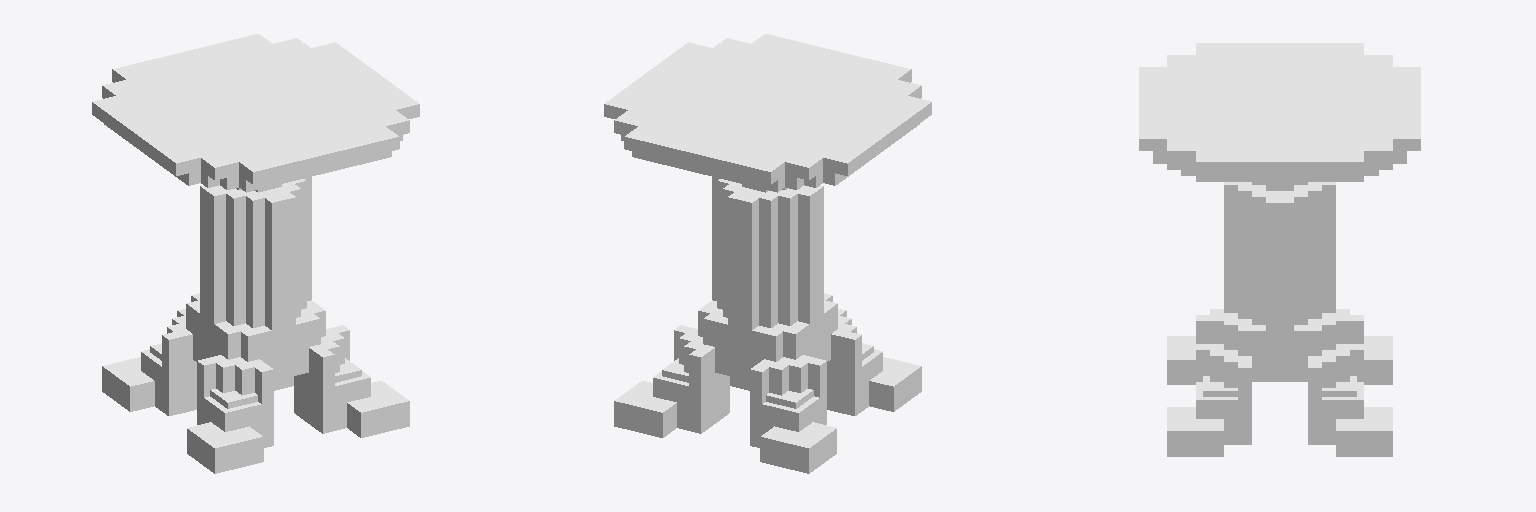
Rendered from stool4.obj.
The picture shows the model from 3 angles: view 1: azimuth 30°, elevation 25°; view 2: azimuth 150°, elevation 25°; view 3: azimuth 270°, elevation 25°; orthographic projection.
Parts seen in each view (by area): view 1: stool4; view 2: stool4; view 3: stool4.
Part boxes in pixels (x1,y1,x2,y2): stool4: (92,34,419,473); stool4: (604,34,931,473); stool4: (1139,43,1420,456).
Bounding box in the file's own units: 40 × 48 × 40.